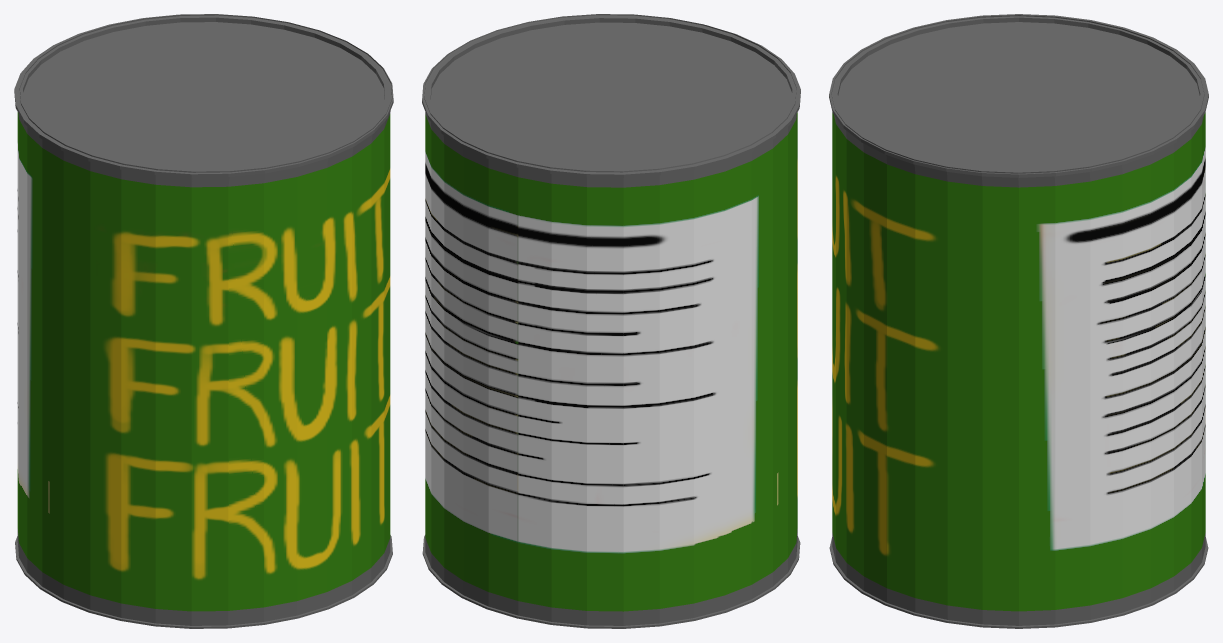
Rendered from ConserevVert.fbx.
3 renders of one model, left to right at view 1: azimuth 30°, elevation 25°; view 2: azimuth 150°, elevation 25°; view 3: azimuth 270°, elevation 25°, orthographic.
Visible parts, largest first — view 1: Cylinder; view 2: Cylinder; view 3: Cylinder.
Boxes of the visible parts, box(x1,y1,x2,y2) form: Cylinder: box(14, 14, 393, 628); Cylinder: box(422, 14, 800, 628); Cylinder: box(829, 14, 1208, 628).
Size of the model in its own units: 173 by 230 by 173.
Materials: 2 (1 with a texture image).
